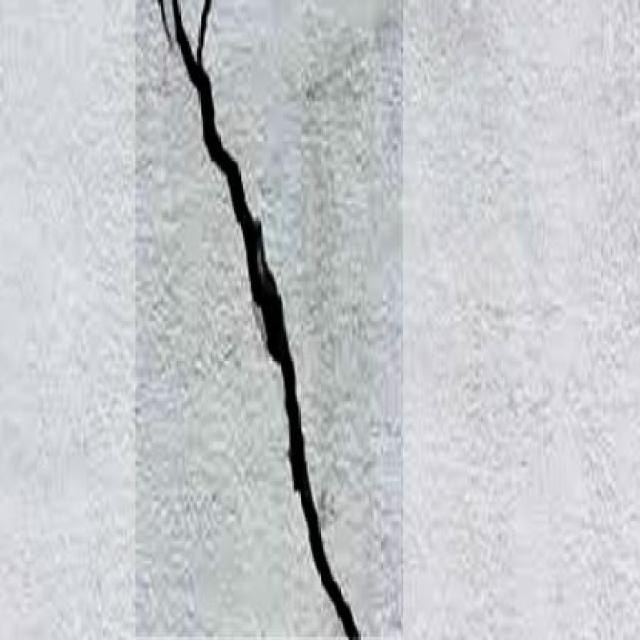Crack: (124, 0, 414, 637)
